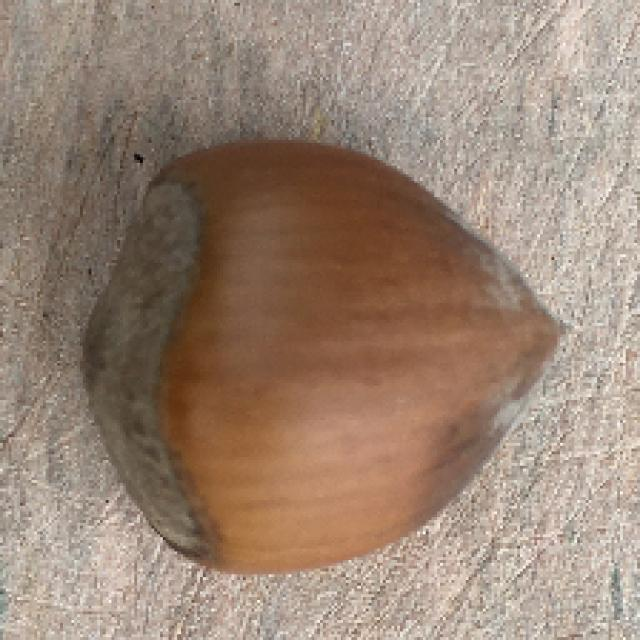qualityHazelnut: (73, 130, 577, 585)
